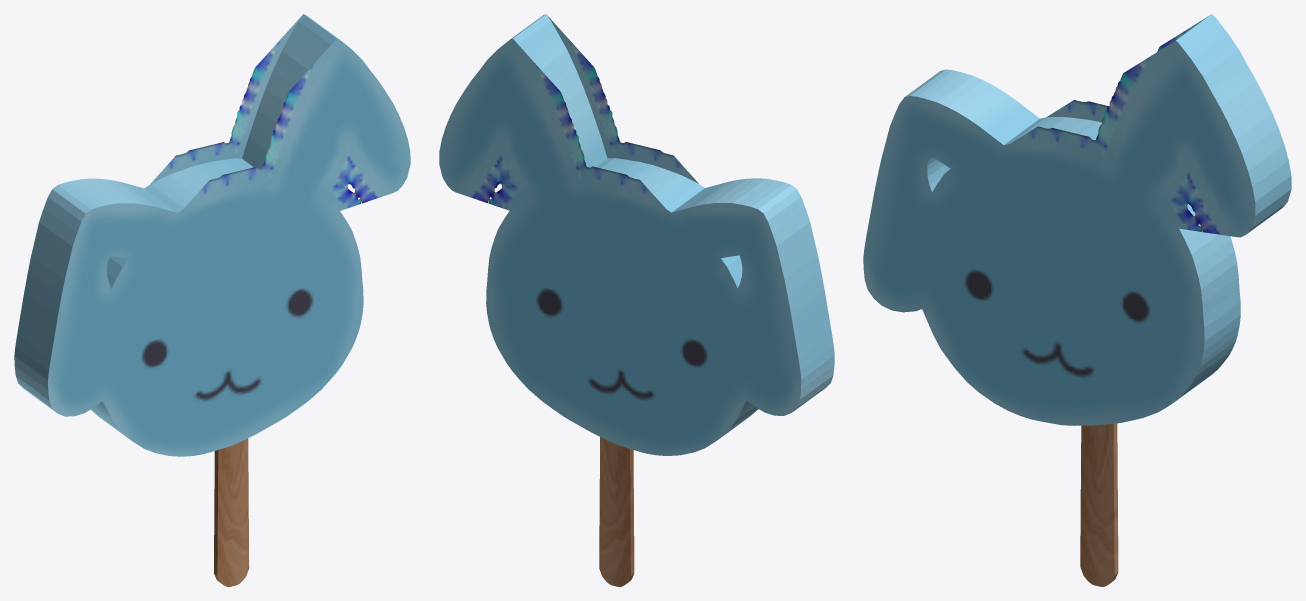
File: tuz.fbx
3 views of the same model, side by side, from view 1: azimuth 30°, elevation 25°; view 2: azimuth 150°, elevation 25°; view 3: azimuth 330°, elevation 25° (orthographic). The views are drawn at different scales.
Parts seen in each view (by area): view 1: tuz; view 2: tuz; view 3: tuz.
Boxes of the visible parts, x1=… form: tuz: x1=14, y1=14, x2=410, y2=586; tuz: x1=439, y1=14, x2=834, y2=586; tuz: x1=863, y1=14, x2=1291, y2=586.
Size of the model in its own units: 156 by 221 by 25.
1 material, 1 textured.
